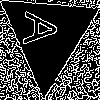A: (23, 11, 66, 49)
